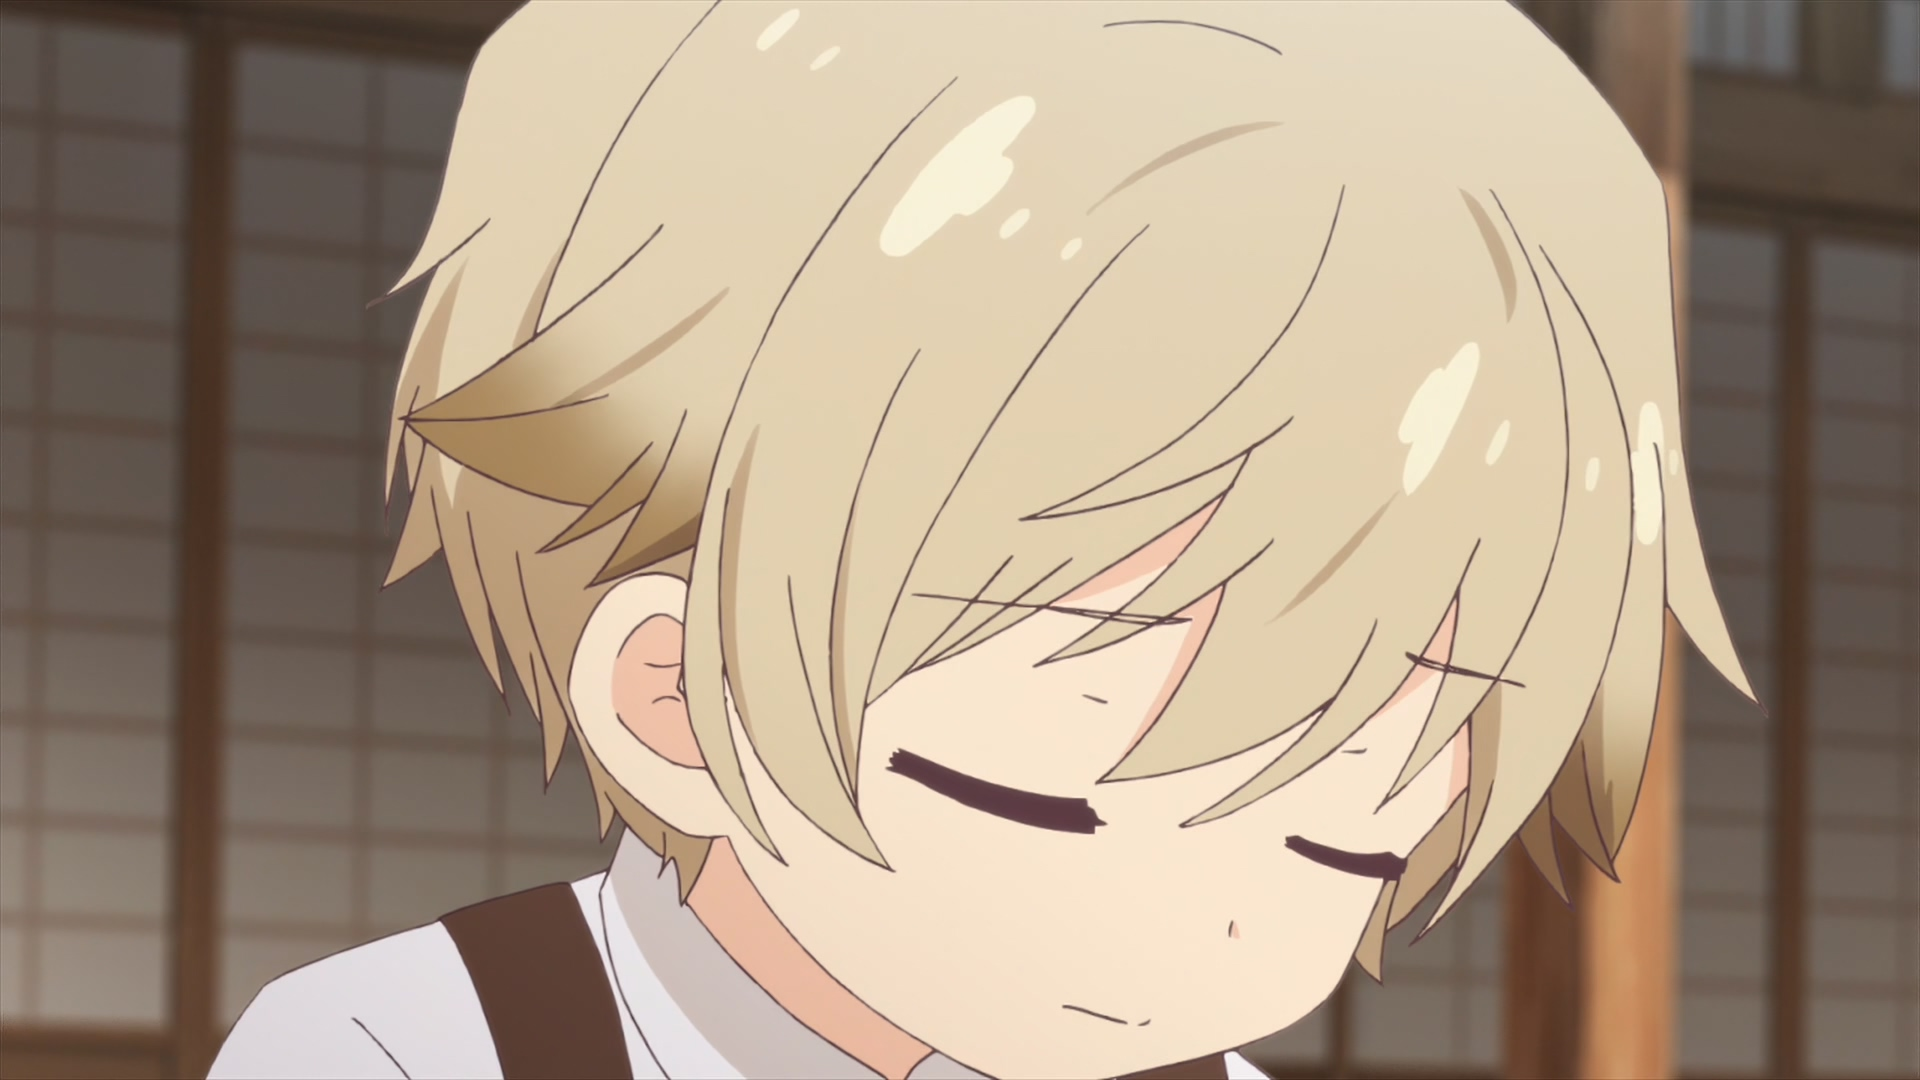其他: (200, 1, 1764, 1080)
